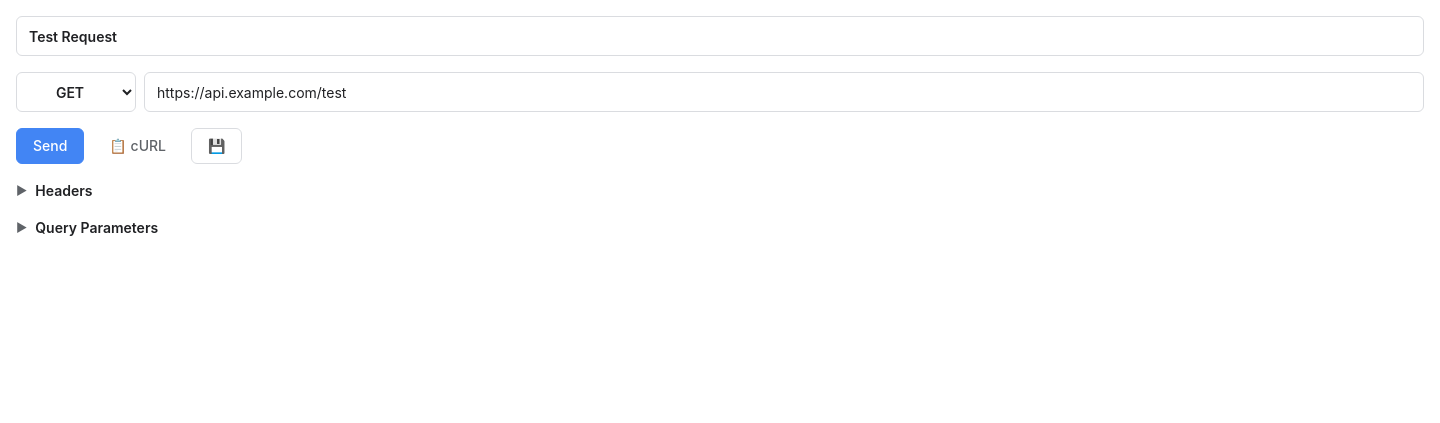
Test case: URL and Query Parameters Synchronization › should handle multiple query parameters correctly
// Expand query parameters section
Click the heading "▶ Query Parameters". click: {"x": 87, "y": 228}
box: [16,219,158,236]
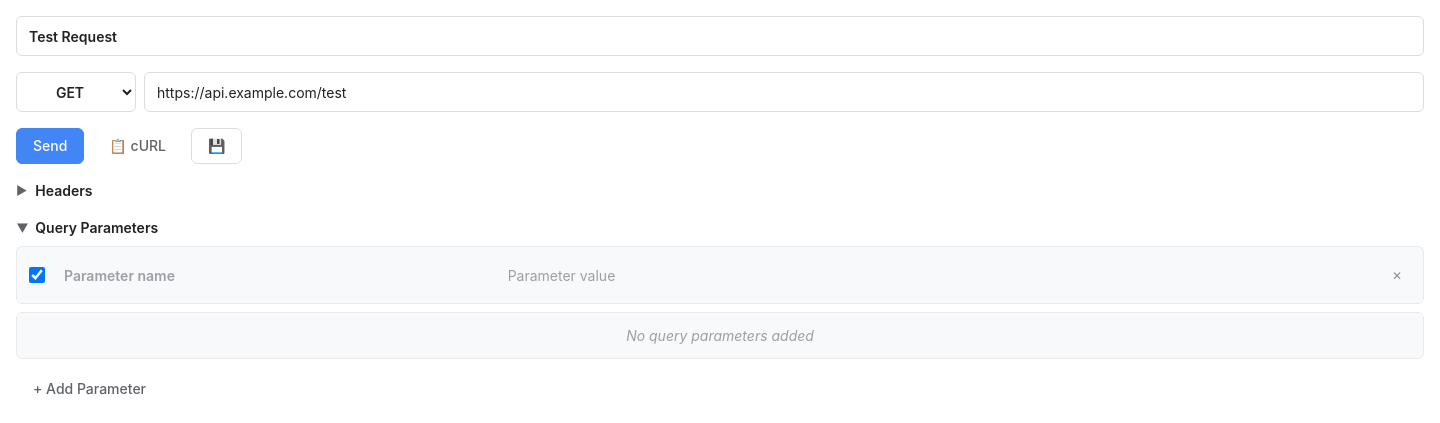
Type "page" into the field with placeholder "Parameter name". click: {"x": 276, "y": 275}
box: [60,255,492,295]
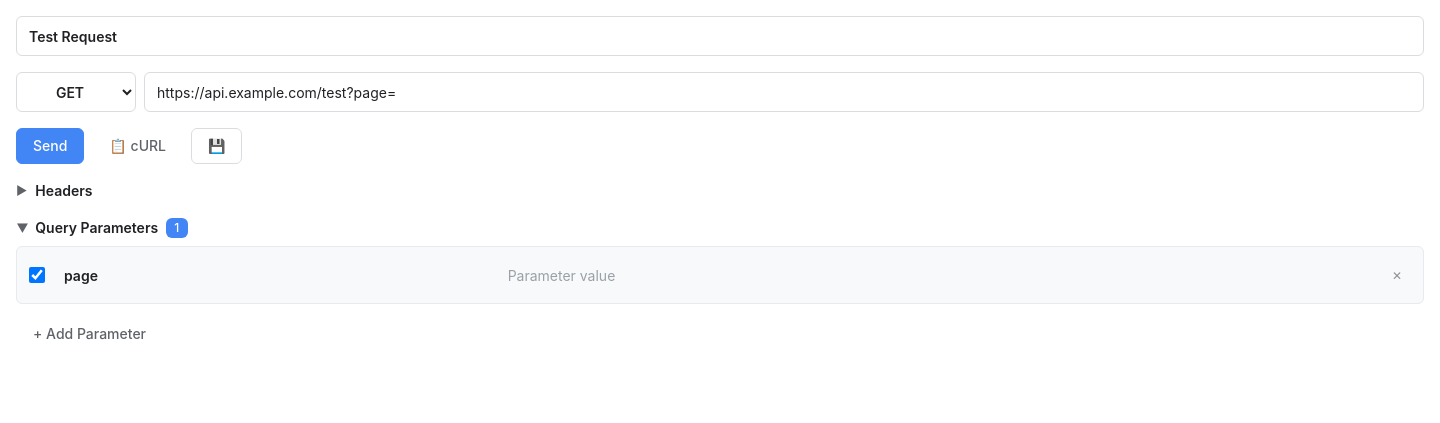
Type "1" into the field with placeholder "Parameter value". click: {"x": 935, "y": 275}
box: [504,255,1367,295]
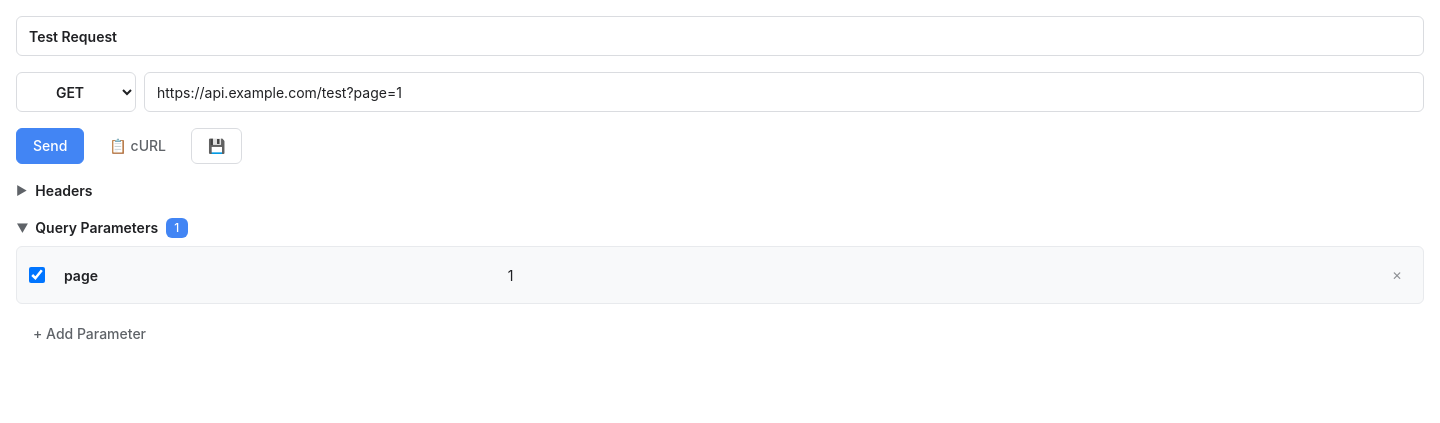
// Add second parameter
Click the button "+ Add Parameter". click: {"x": 90, "y": 334}
box: [16,316,163,352]
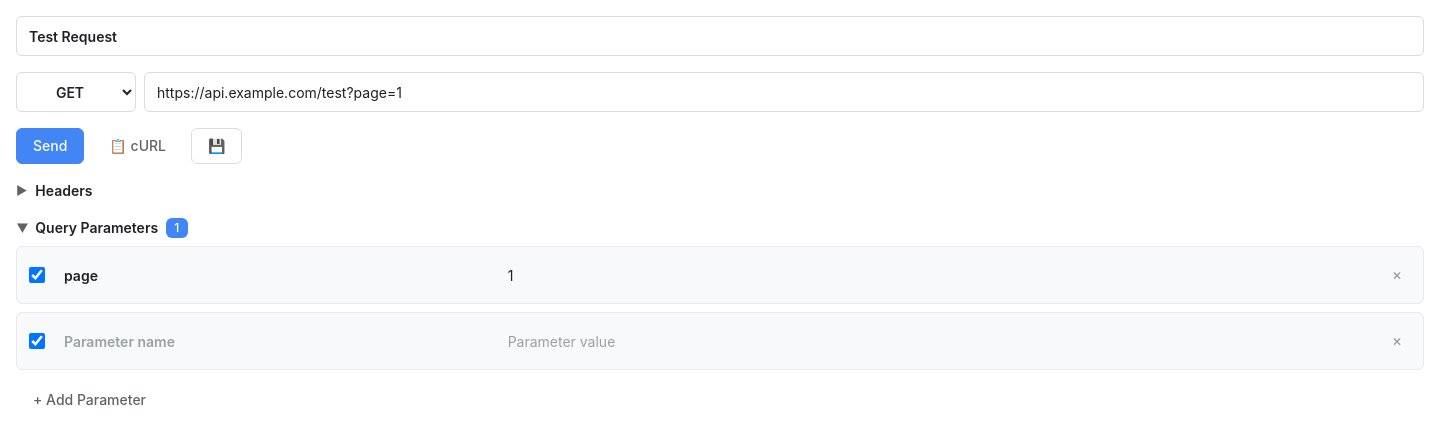
Type "limit" into the field with placeholder "Parameter name". click: {"x": 276, "y": 341}
box: [60,321,492,361]
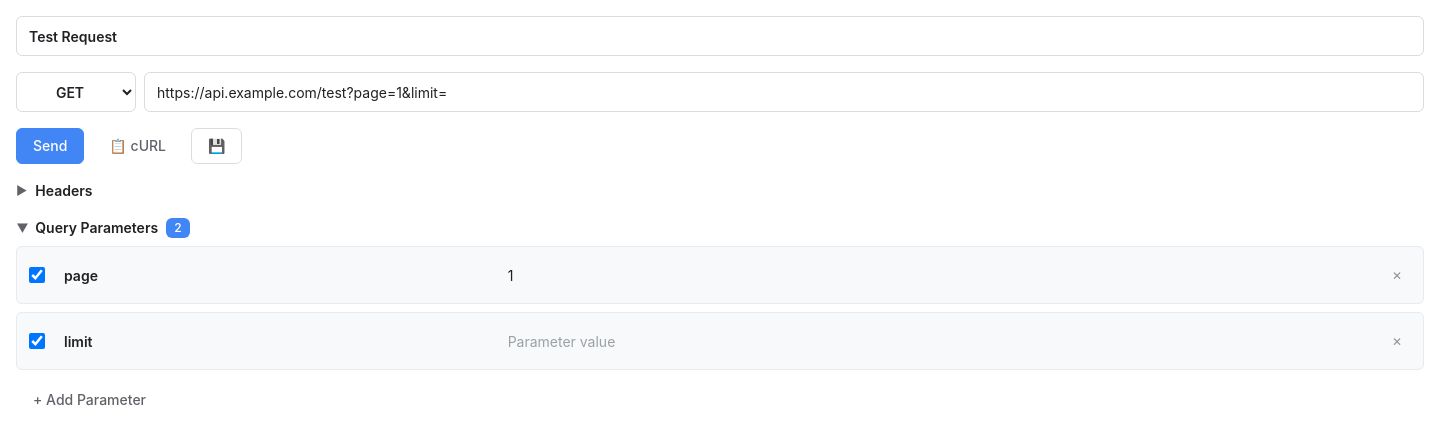
Type "20" into the field with placeholder "Parameter value". click: {"x": 935, "y": 341}
box: [504,321,1367,361]
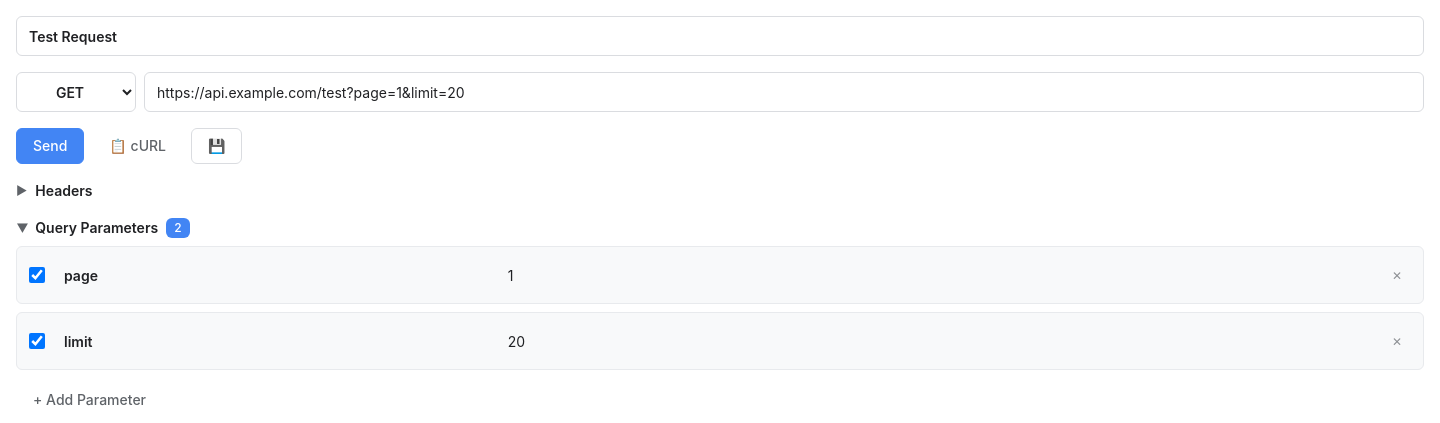
Expected: the 2nd field is shown, [144,72,1424,112]
